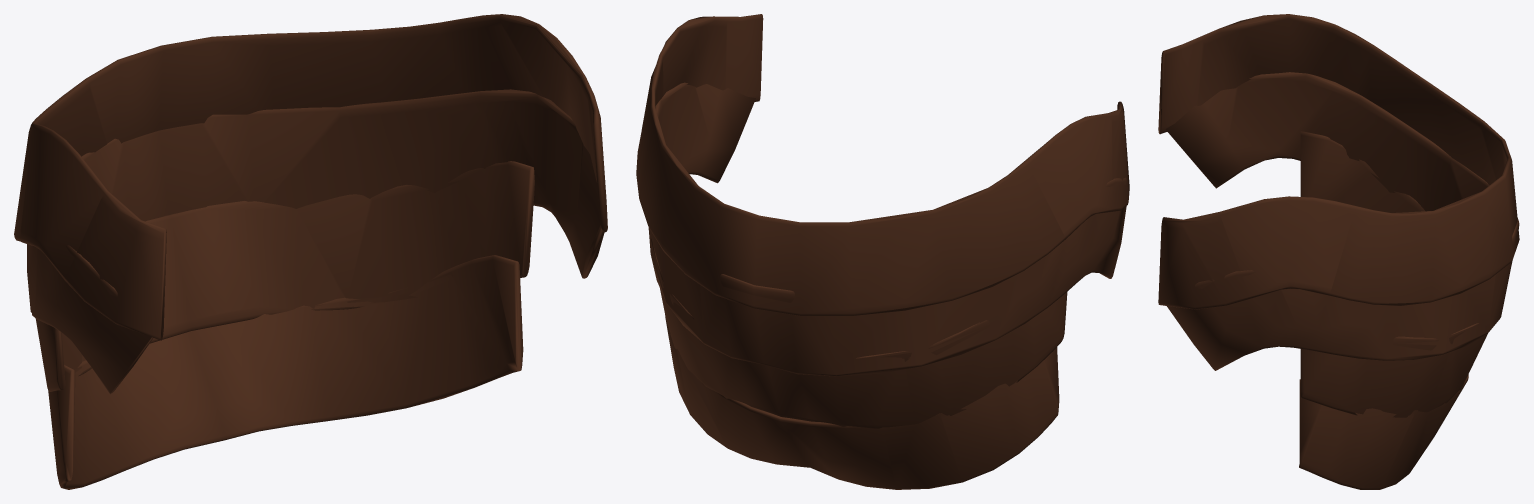
3 renders of one model, left to right at view 1: azimuth 30°, elevation 25°; view 2: azimuth 150°, elevation 25°; view 3: azimuth 270°, elevation 25°, orthographic. The views are drawn at different scales.
Parts seen in each view (by area): view 1: hairBackhead; view 2: hairBackhead; view 3: hairBackhead.
Part boxes in pixels (x1=…): hairBackhead: x1=14, y1=14, x2=607, y2=489; hairBackhead: x1=636, y1=14, x2=1129, y2=489; hairBackhead: x1=1158, y1=14, x2=1519, y2=489.
Size of the model in its own units: 0.4809 by 0.3683 by 0.3644.
Materials: 1 (1 with a texture image).
